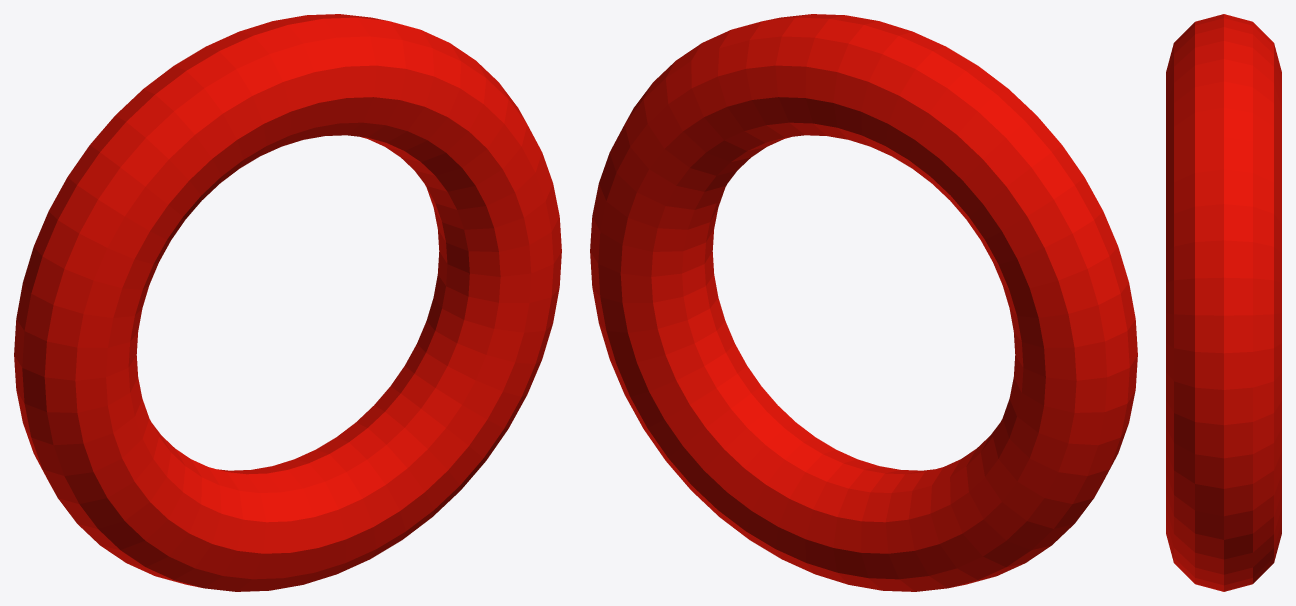
File: davidCubeVarA2.gltf
3 views of the same model, side by side, from view 1: azimuth 30°, elevation 25°; view 2: azimuth 150°, elevation 25°; view 3: azimuth 270°, elevation 25° (orthographic). The views are drawn at different scales.
Visible parts, largest first — view 1: davidCubeVarA2; view 2: davidCubeVarA2; view 3: davidCubeVarA2.
Part boxes in pixels (x1,y1,x2,y2): davidCubeVarA2: (14, 14, 561, 591); davidCubeVarA2: (590, 14, 1137, 591); davidCubeVarA2: (1166, 14, 1281, 591).
Bounding box in the file's own units: 1.24 × 1.24 × 0.2484.
